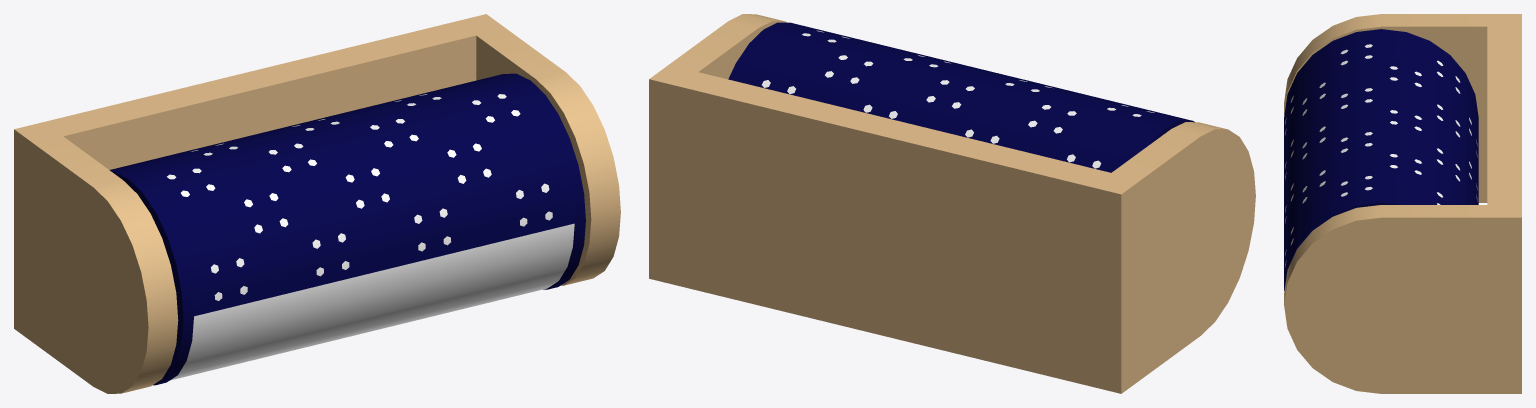
File: wall_lamp.obj
The picture shows the model from 3 angles, left to right: view 1: azimuth 30°, elevation 25°; view 2: azimuth 150°, elevation 25°; view 3: azimuth 270°, elevation 25°; orthographic projection. The views are drawn at different scales.
Visible parts, largest first — view 1: wood_1, sweethome3d_opening_on_hinge_1_metal_5, sweethome3d_opening_on_hinge_1_transparent_4; view 2: wood_1, sweethome3d_opening_on_hinge_1_metal_5, sweethome3d_opening_on_hinge_1_transparent_4; view 3: wood_1, sweethome3d_opening_on_hinge_1_metal_5, sweethome3d_opening_on_hinge_1_transparent_4.
Part boxes in pixels (<box>): wood_1: <box>14,14,620,393</box>; sweethome3d_opening_on_hinge_1_metal_5: <box>109,73,585,385</box>; sweethome3d_opening_on_hinge_1_transparent_4: <box>167,94,574,380</box>; wood_1: <box>649,14,1255,393</box>; sweethome3d_opening_on_hinge_1_metal_5: <box>728,22,1194,172</box>; sweethome3d_opening_on_hinge_1_transparent_4: <box>762,30,1154,168</box>; wood_1: <box>1284,14,1521,393</box>; sweethome3d_opening_on_hinge_1_metal_5: <box>1284,29,1478,290</box>; sweethome3d_opening_on_hinge_1_transparent_4: <box>1285,44,1477,266</box>.
Size of the model in its own units: 22.3 by 9 by 11.
